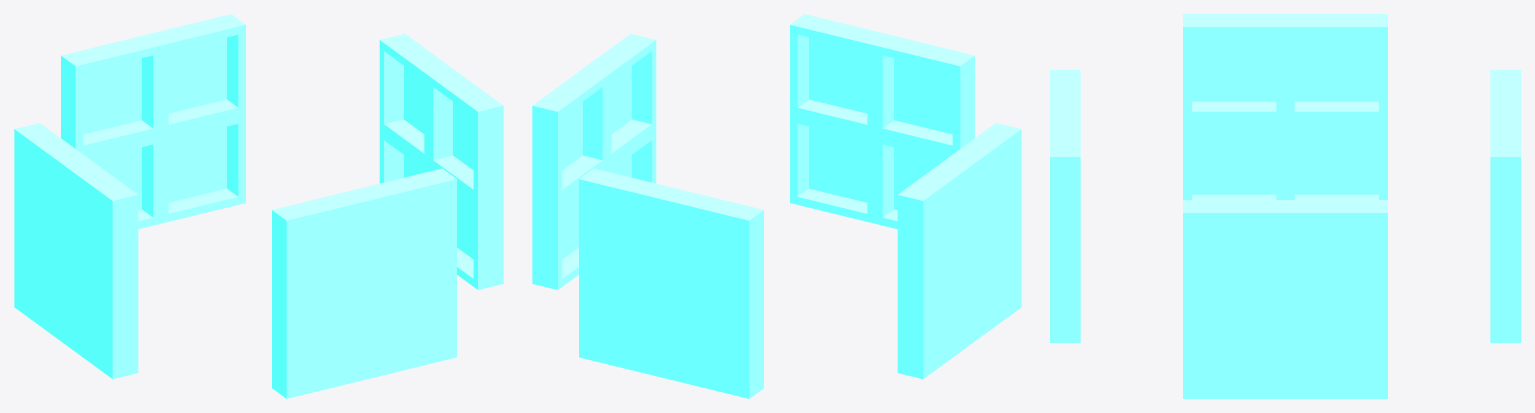
Rendered from windowPlanes2.gltf.
The picture shows the model from 3 angles, left to right: view 1: azimuth 30°, elevation 25°; view 2: azimuth 150°, elevation 25°; view 3: azimuth 270°, elevation 25°; orthographic projection. The views are drawn at different scales.
Visible parts, largest first — view 1: windowPlaneDown, windowPlaneUp, windowPlaneLeft, windowPlaneRight; view 2: windowPlaneUp, windowPlaneDown, windowPlaneLeft, windowPlaneRight; view 3: windowPlaneRight, windowPlaneLeft, windowPlaneUp, windowPlaneDown.
Boxes of the visible parts, left/top/right/bottom form: windowPlaneDown: left=272, top=168, right=456, bottom=398; windowPlaneUp: left=61, top=14, right=245, bottom=229; windowPlaneLeft: left=14, top=123, right=138, bottom=378; windowPlaneRight: left=379, top=34, right=503, bottom=289; windowPlaneUp: left=579, top=168, right=763, bottom=398; windowPlaneDown: left=790, top=14, right=974, bottom=229; windowPlaneLeft: left=897, top=123, right=1021, bottom=378; windowPlaneRight: left=532, top=34, right=656, bottom=289; windowPlaneRight: left=1183, top=200, right=1387, bottom=398; windowPlaneLeft: left=1183, top=14, right=1387, bottom=199; windowPlaneUp: left=1490, top=70, right=1520, bottom=342; windowPlaneDown: left=1050, top=70, right=1080, bottom=342.
Bounding box in the file's own units: 5.74 × 2.5 × 5.74.
